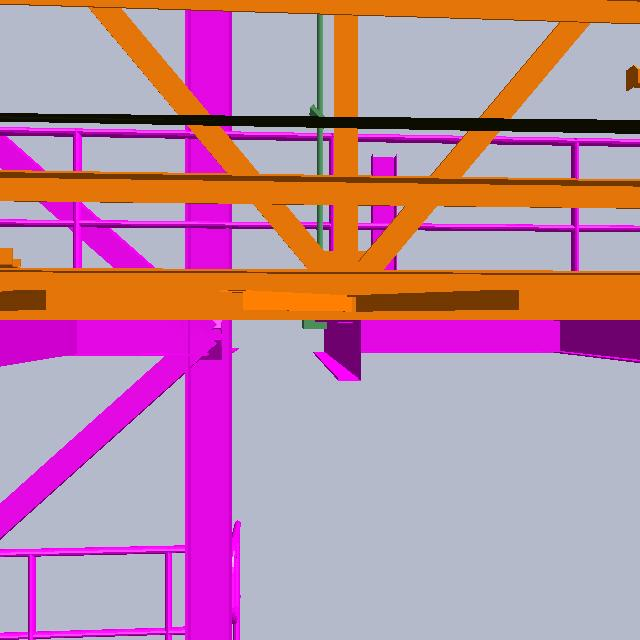Poste: (308, 15, 325, 295)
Soporte: (367, 152, 407, 297)
